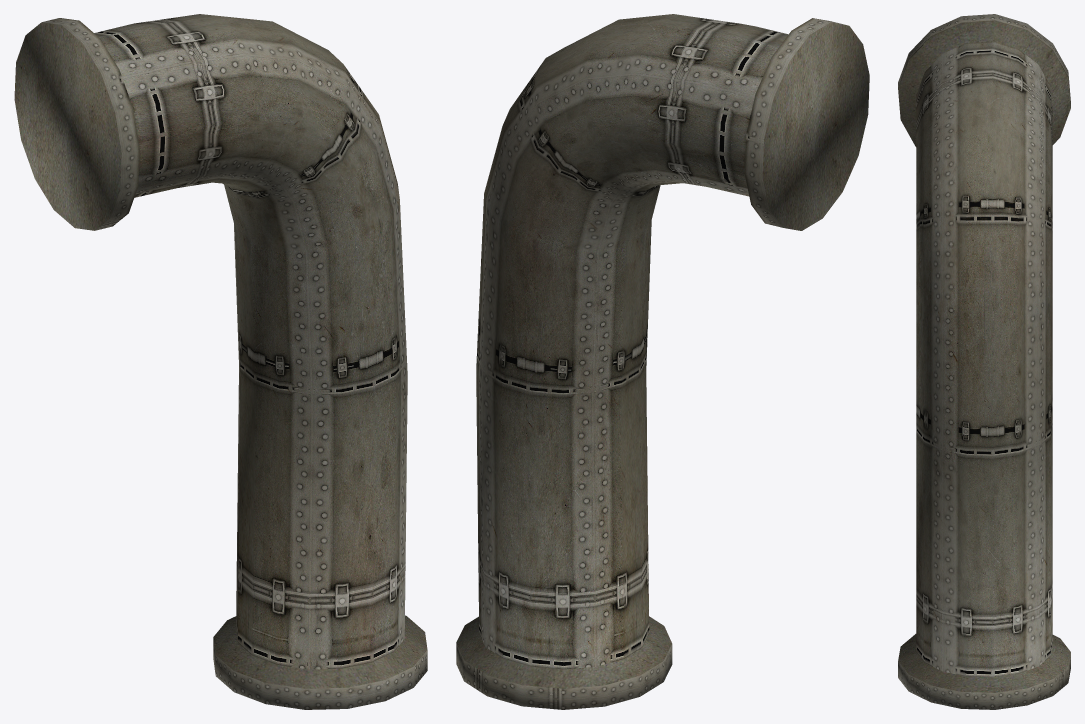
The model's file is pipe_bent.fbx.
The picture shows the model from 3 angles, left to right: view 1: azimuth 30°, elevation 25°; view 2: azimuth 150°, elevation 25°; view 3: azimuth 270°, elevation 25°; orthographic projection. The views are drawn at different scales.
Parts seen in each view (by area): view 1: Mesh; view 2: Mesh; view 3: Mesh.
Boxes of the visible parts, left/top/right/bottom form: Mesh: left=14, top=14, right=427, bottom=709; Mesh: left=456, top=14, right=869, bottom=709; Mesh: left=898, top=14, right=1070, bottom=709.
Bounding box in the file's own units: 93.61 × 180 × 50.43.
